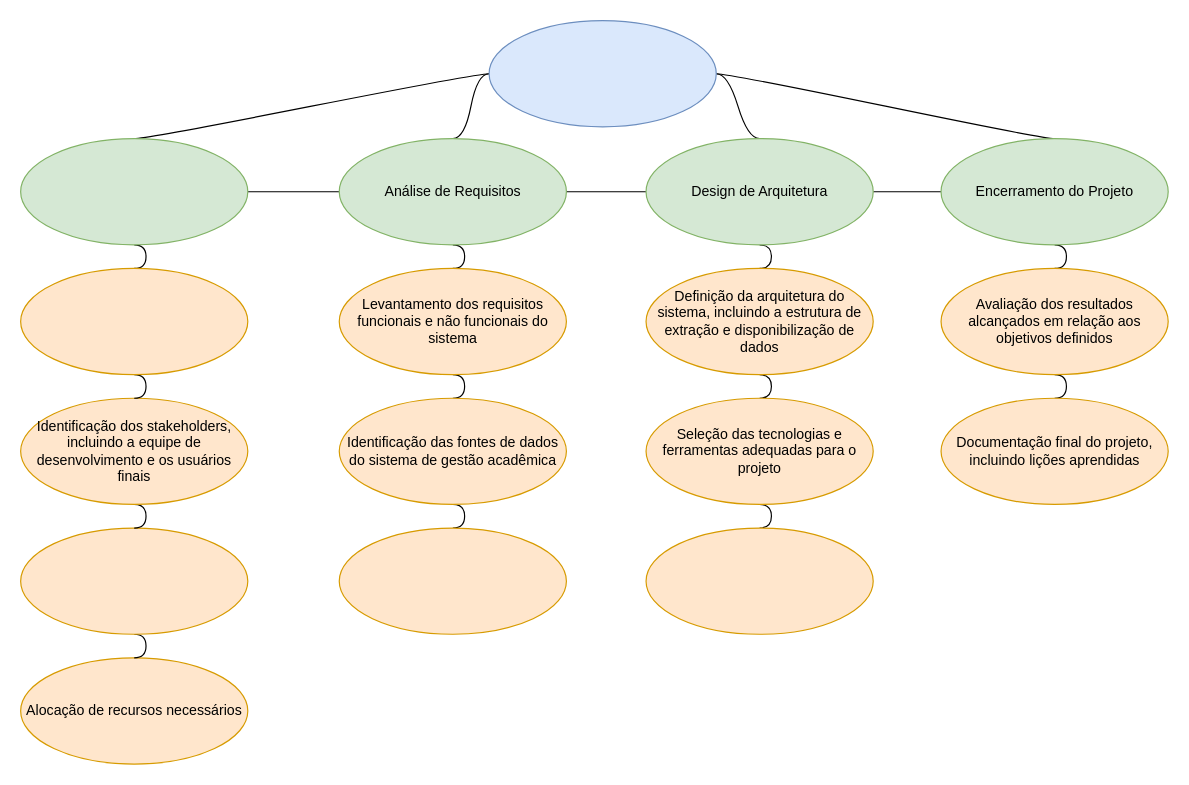
Image size: 1189x785. Some labels were removed from this diagram. Each missing label, with the box of its shape:
Definição dos objetivos e requisitos do projeto: (19, 267, 248, 375)
Disponibilizar Ferramentas de Apoio à Gestão Acadêmica: (488, 19, 716, 127)
Documentação dos requisitos do projeto: (338, 527, 566, 634)
Estabelecimento do cronograma e das metas do projeto: (19, 527, 248, 634)
Iniciação do Projeto: (19, 137, 248, 245)
Mapeamento dos fluxos de dados entre o sistema acadêmico e o novo sistema: (645, 527, 873, 634)
